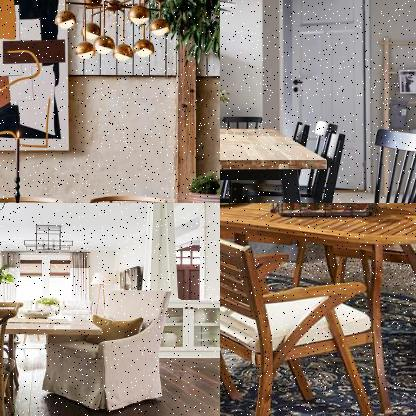table: (220, 203, 415, 415), (0, 298, 109, 415), (220, 123, 331, 202)
